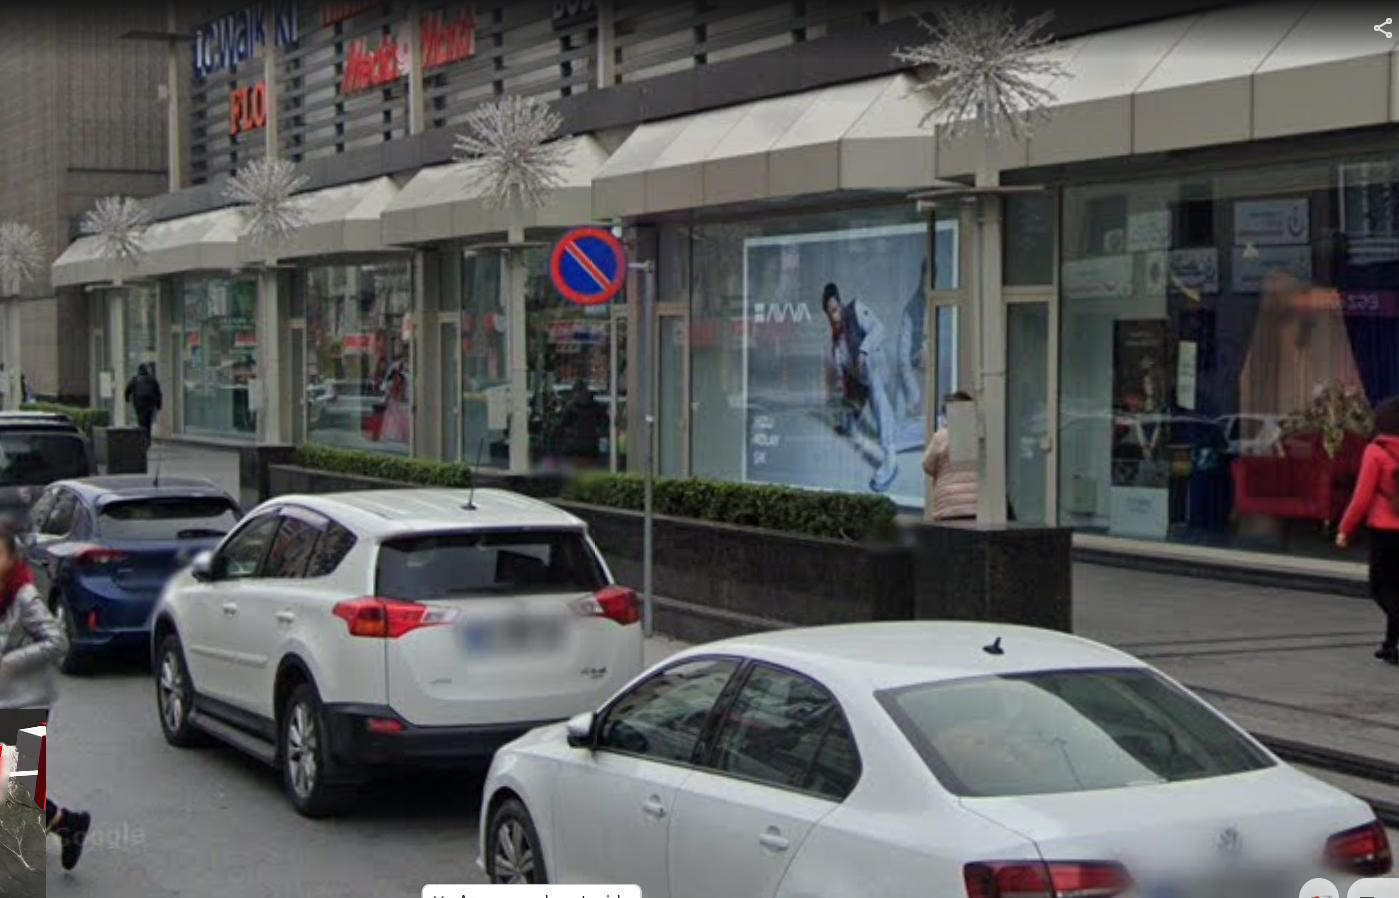nopark: (549, 227, 629, 305)
